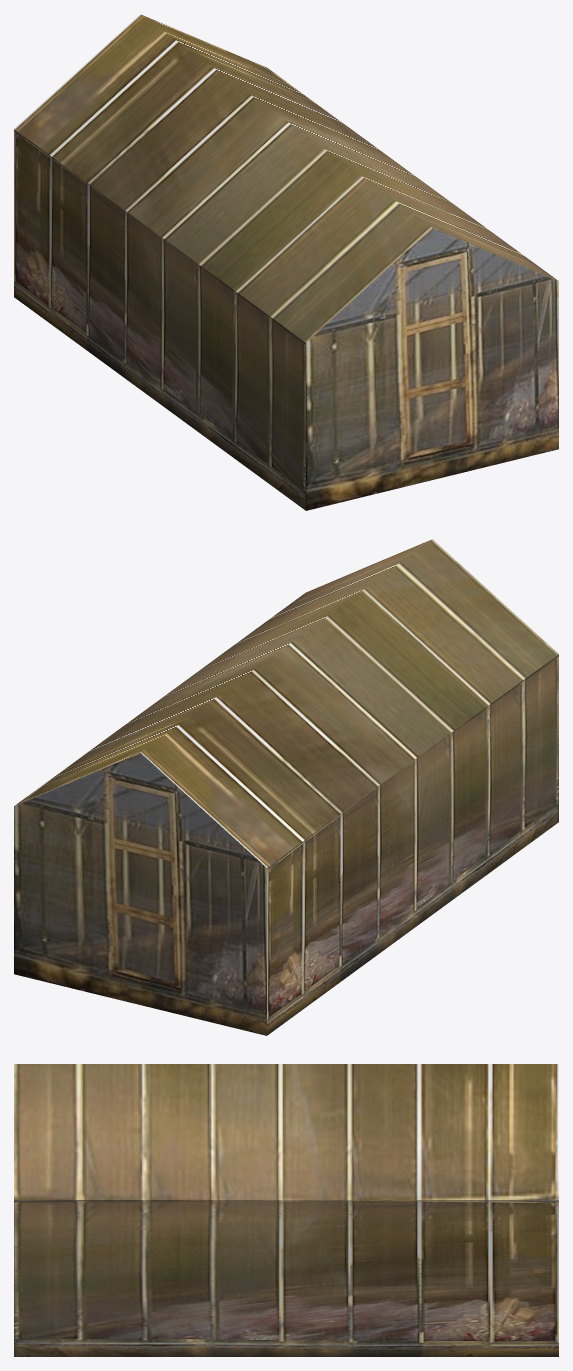
The model's file is sibir_parnik1.FBX.
3 views of the same model, one above another, from view 1: azimuth 30°, elevation 25°; view 2: azimuth 150°, elevation 25°; view 3: azimuth 270°, elevation 25° (orthographic). The views are drawn at different scales.
Visible parts, largest first — view 1: sibir_parnik1; view 2: sibir_parnik1; view 3: sibir_parnik1.
Boxes of the visible parts, bbox=[...] form: sibir_parnik1: bbox=[14, 14, 558, 510]; sibir_parnik1: bbox=[14, 539, 558, 1035]; sibir_parnik1: bbox=[14, 1064, 558, 1356].
Bounding box in the file's own units: 276 × 552 × 263.
